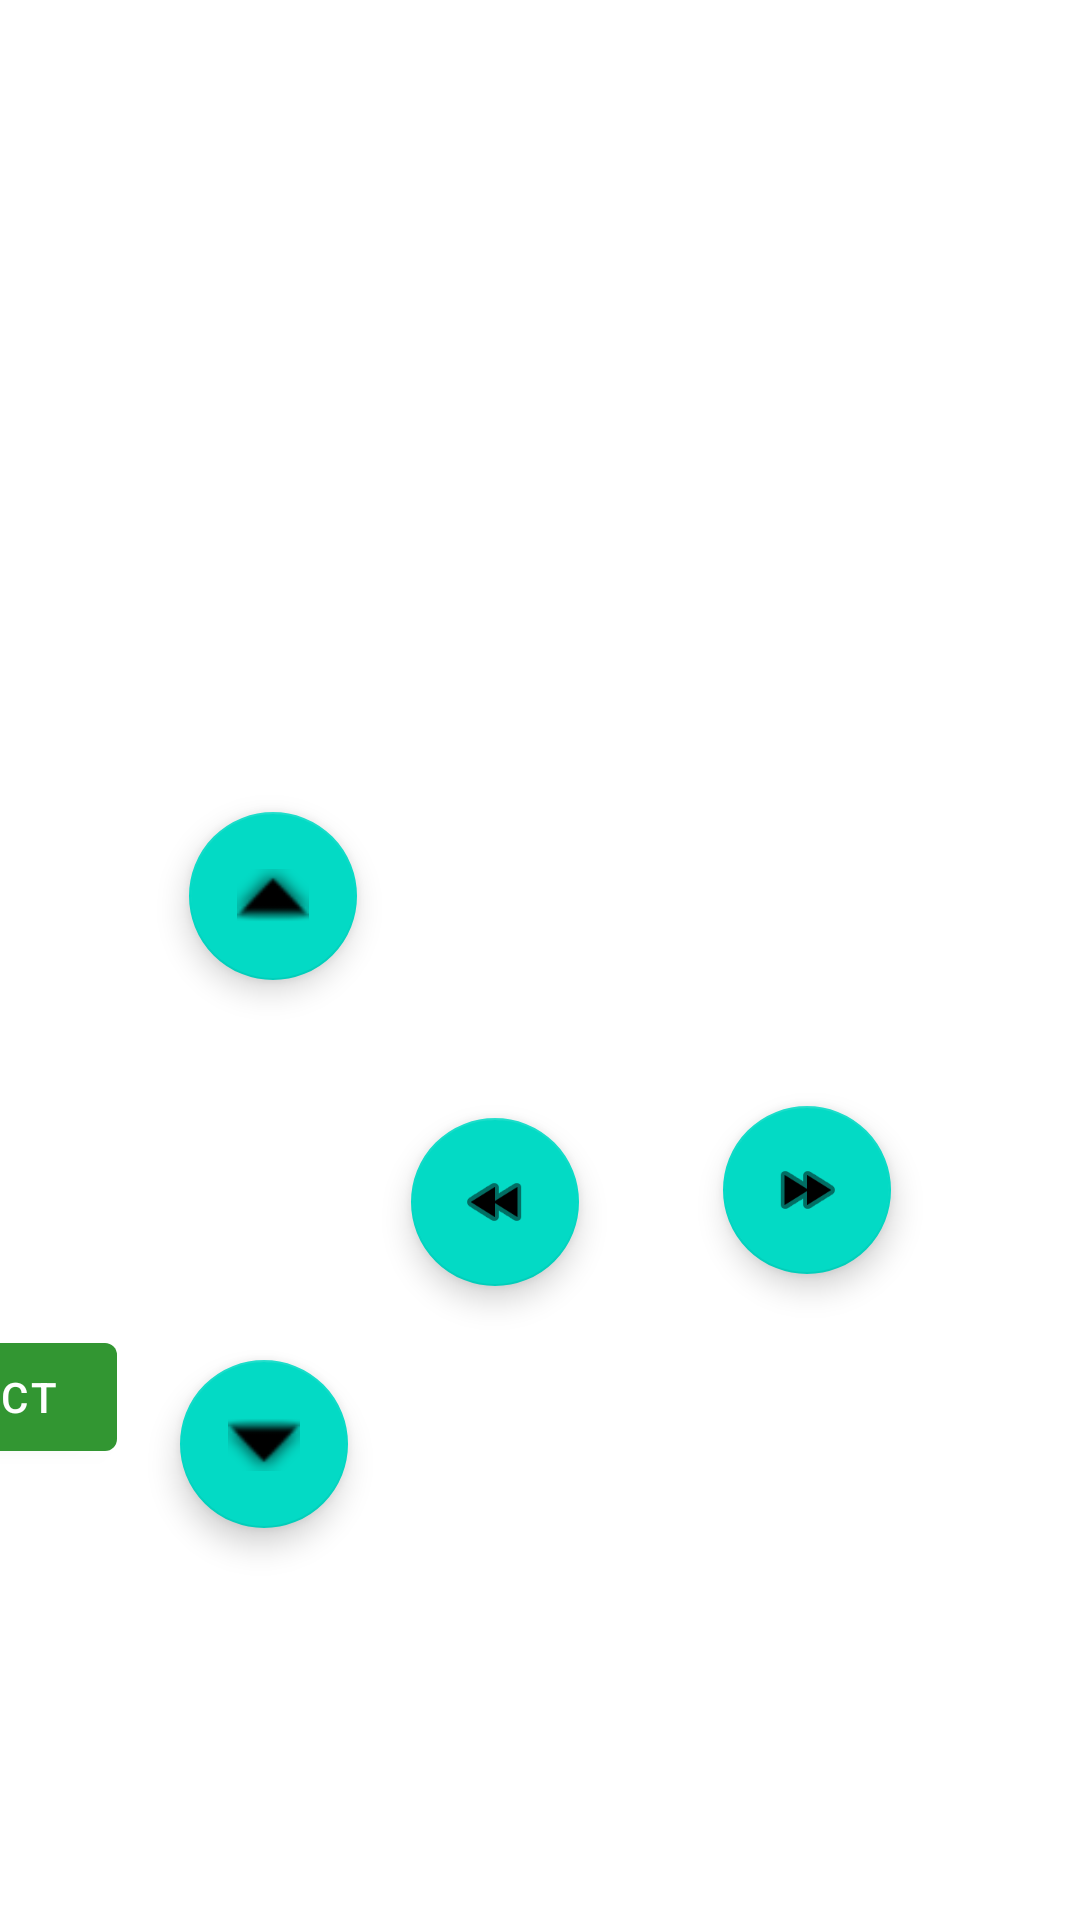

Point at icon controls on the screen. Image size 1080x1920, points as point (x, y).
arrow down float: point (264, 1444)
arrow up float: point (273, 896)
rew: point (495, 1202)
